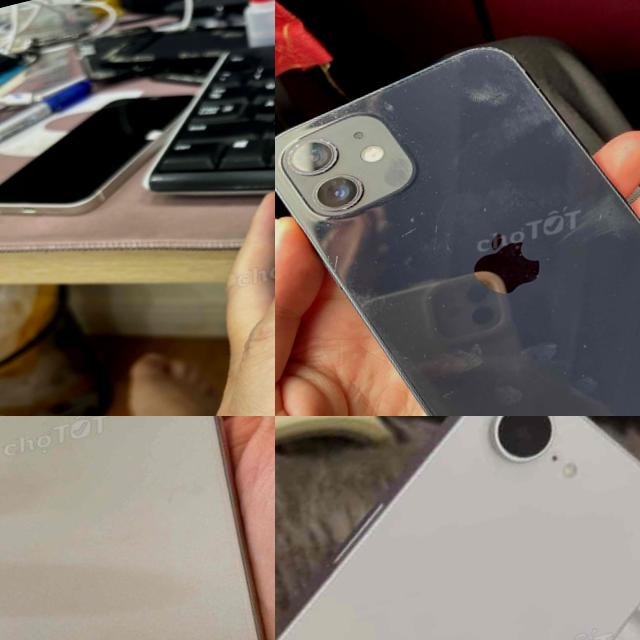gen_11: (0, 416, 275, 640)
gen_12_13: (275, 0, 640, 416)
gen_16: (275, 416, 640, 640)
